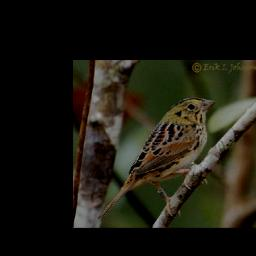Sparrow: (90, 95, 216, 223)
